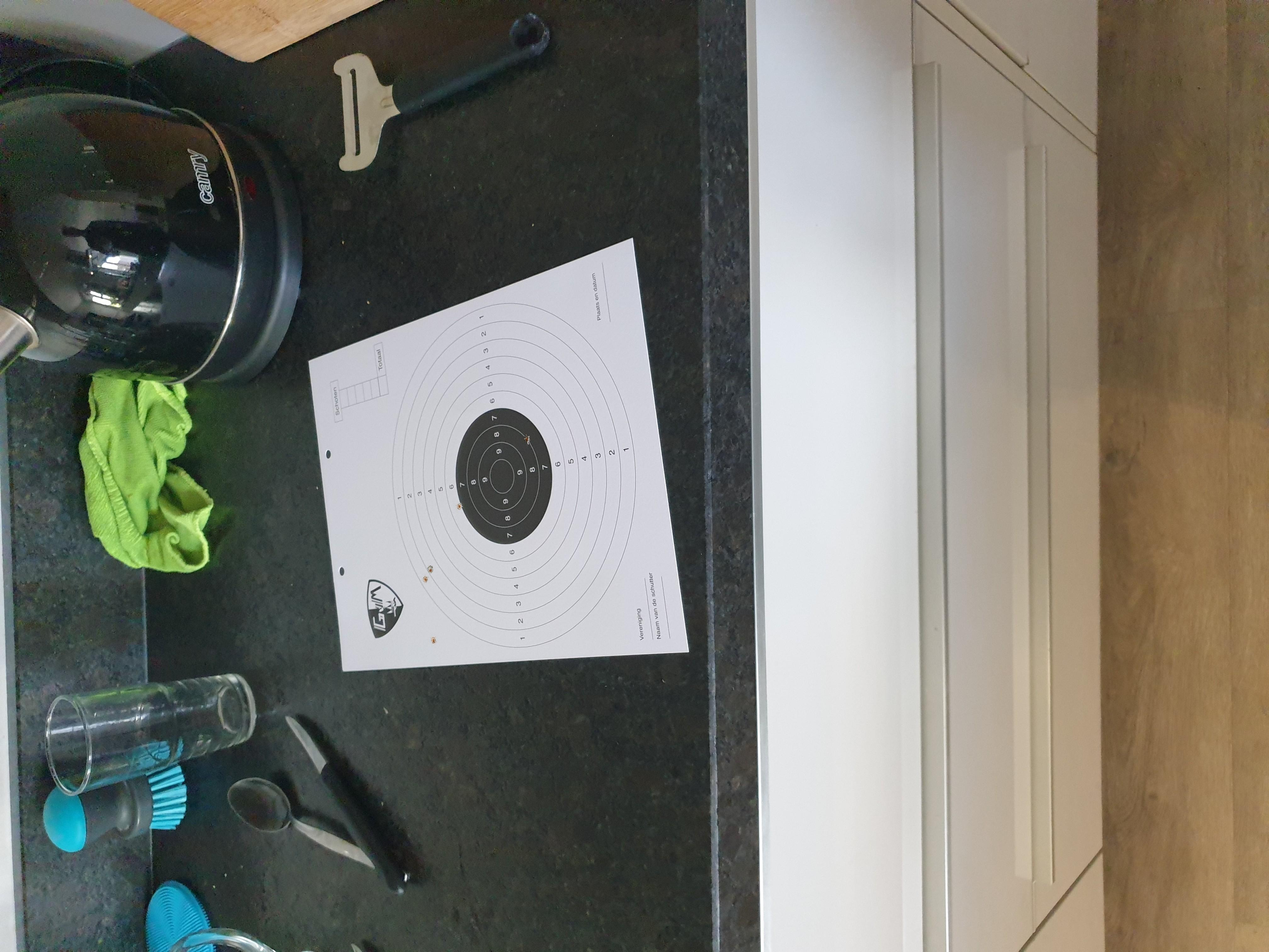hole: (523, 434, 530, 445), (430, 636, 437, 644), (456, 503, 463, 510), (423, 575, 429, 583), (427, 565, 433, 573)
